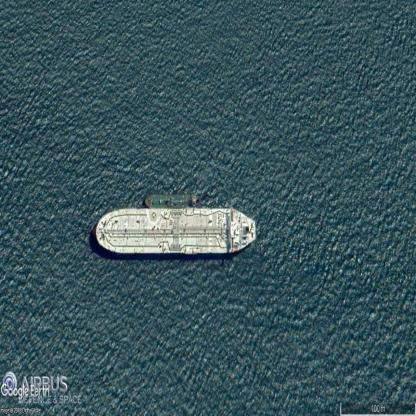ship: (95, 208, 256, 255), (144, 194, 200, 209)
